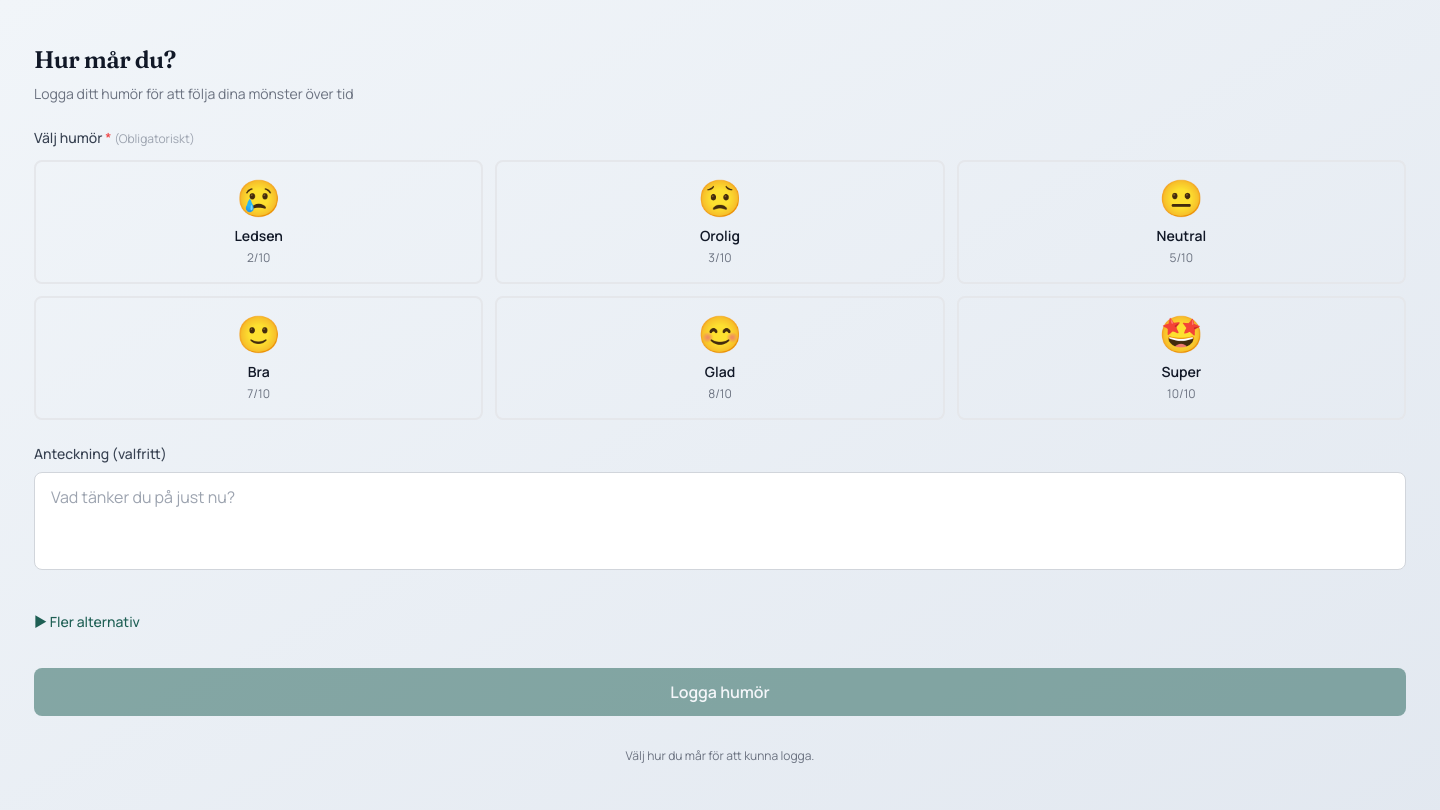
Test: SuperMoodLogger › enables submit after selecting mood
Click the text "Glad". click: click(720, 372)
box: [705, 362, 735, 381]
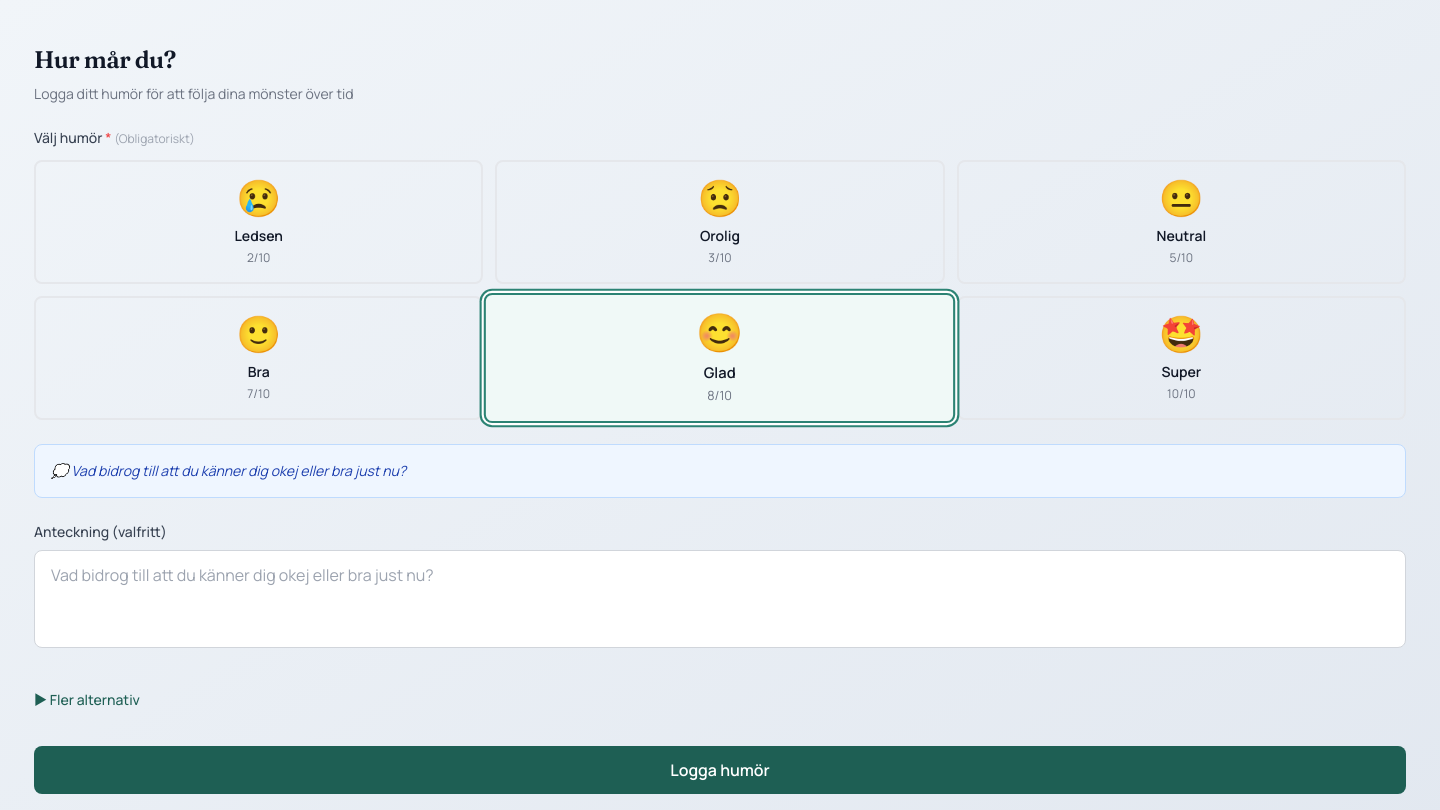
expect the button "Logga humör" is enabled: met, box [34, 746, 1406, 794]
